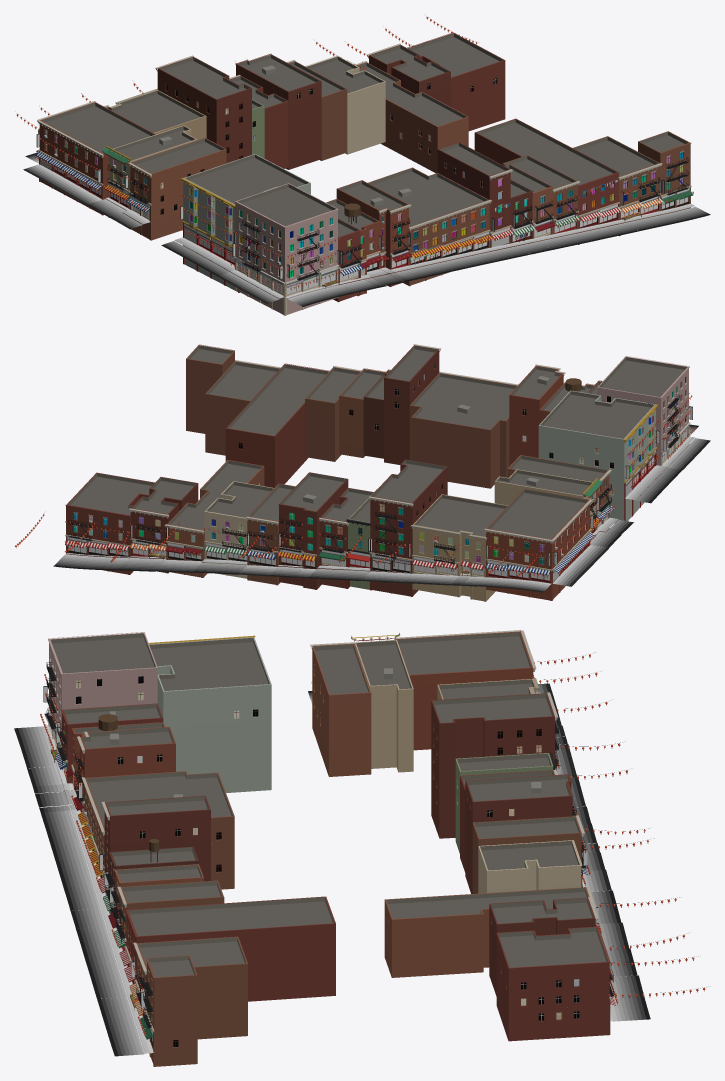
3 renders of one model, top to bottom at view 1: azimuth 30°, elevation 25°; view 2: azimuth 150°, elevation 25°; view 3: azimuth 270°, elevation 25°, orthographic. The views are drawn at different scales.
Parts seen in each view (by area): view 1: L0_roof, L0_brickred, L0_ground, L0_d_metal, L0_stucco, L0_stone, L0_d_brickred, L0_cwin, L0_d_fabric, L0_d_brick, L0_clear, L0_d_stone (+6 smaller); view 2: L0_roof, L0_brickred, L0_d_brickred, L0_ground, L0_stone, L0_stucco, L0_d_metal, L0_brick, L0_d_fabric, L0_d_stone, L0_cwin, L0_clear (+5 smaller); view 3: L0_roof, L0_brickred, L0_d_brickred, L0_ground, L0_stucco, L0_stone, L0_brick, L0_d_metal, L0_d_fabric, L0_win, L0_lantern, L0_sign.
Part boxes in pixels (left/top/right/bottom): L0_roof: left=41, top=33, right=688, bottom=237; L0_brickred: left=39, top=55, right=690, bottom=301; L0_ground: left=23, top=152, right=710, bottom=306; L0_d_metal: left=34, top=36, right=689, bottom=296; L0_stucco: left=183, top=106, right=337, bottom=314; L0_stone: left=37, top=32, right=691, bottom=284; L0_d_brickred: left=44, top=55, right=684, bottom=301; L0_cwin: left=45, top=130, right=683, bottom=277; L0_d_fabric: left=17, top=19, right=693, bottom=290; L0_d_brick: left=113, top=81, right=385, bottom=185; L0_clear: left=54, top=166, right=688, bottom=294; L0_d_stone: left=39, top=57, right=690, bottom=315; L0_roof: left=68, top=345, right=687, bottom=539; L0_brickred: left=66, top=350, right=609, bottom=600; L0_d_brickred: left=73, top=351, right=606, bottom=588; L0_ground: left=53, top=424, right=710, bottom=592; L0_stone: left=65, top=344, right=690, bottom=571; L0_stucco: left=348, top=368, right=688, bottom=589; L0_d_metal: left=21, top=376, right=693, bottom=582; L0_brick: left=204, top=491, right=595, bottom=601; L0_d_fabric: left=16, top=397, right=694, bottom=577; L0_d_stone: left=66, top=351, right=689, bottom=601; L0_cwin: left=74, top=377, right=685, bottom=564; L0_clear: left=68, top=430, right=686, bottom=580; L0_roof: left=51, top=632, right=607, bottom=977; L0_brickred: left=62, top=647, right=609, bottom=1066; L0_d_brickred: left=64, top=718, right=595, bottom=1039; L0_ground: left=14, top=683, right=650, bottom=1056; L0_stucco: left=49, top=643, right=459, bottom=853; L0_stone: left=47, top=630, right=611, bottom=1032; L0_brick: left=369, top=685, right=581, bottom=892; L0_d_metal: left=43, top=652, right=706, bottom=1048; L0_d_fabric: left=40, top=657, right=704, bottom=1039; L0_win: left=76, top=676, right=579, bottom=1046; L0_lantern: left=40, top=654, right=705, bottom=1036; L0_sign: left=43, top=686, right=598, bottom=1032.
Size of the model in its own units: 137 by 31.92 by 127.
